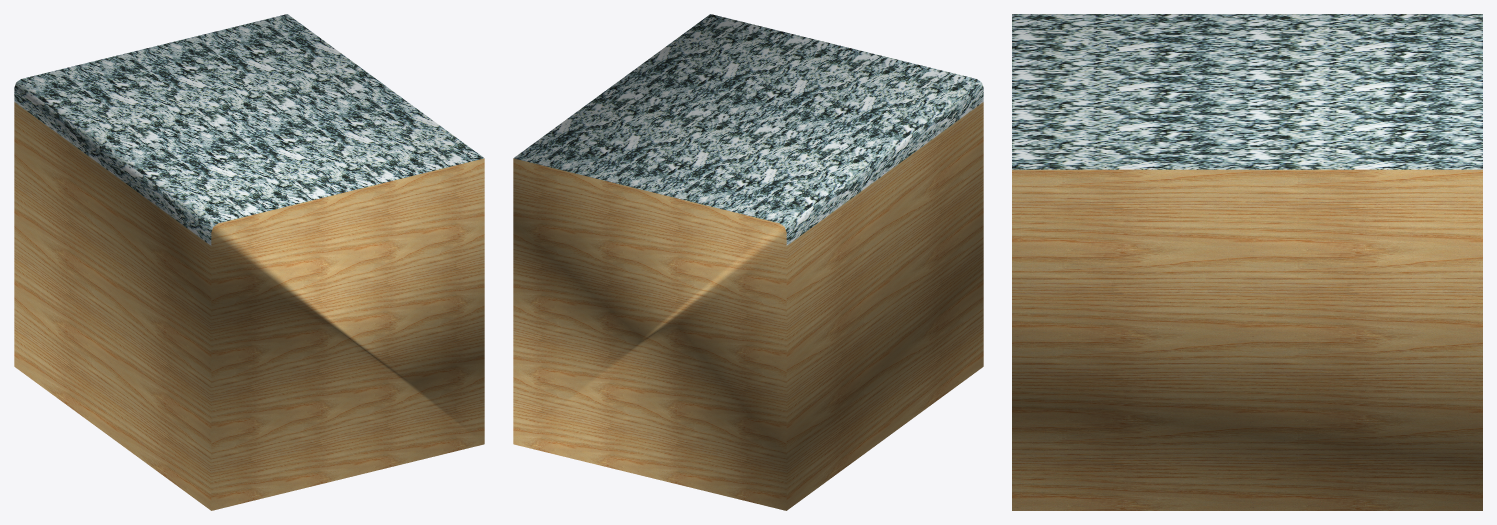
Rendered from worktop.fbx.
3 renders of one model, left to right at view 1: azimuth 30°, elevation 25°; view 2: azimuth 150°, elevation 25°; view 3: azimuth 270°, elevation 25°, orthographic. The views are drawn at different scales.
Parts seen in each view (by area): view 1: worktop; view 2: worktop; view 3: worktop.
Boxes of the visible parts, left/top/right/bottom form: worktop: left=14, top=14, right=484, bottom=510; worktop: left=513, top=14, right=983, bottom=510; worktop: left=1012, top=14, right=1482, bottom=510.
Bounding box in the file's own units: 80 × 80 × 100.
